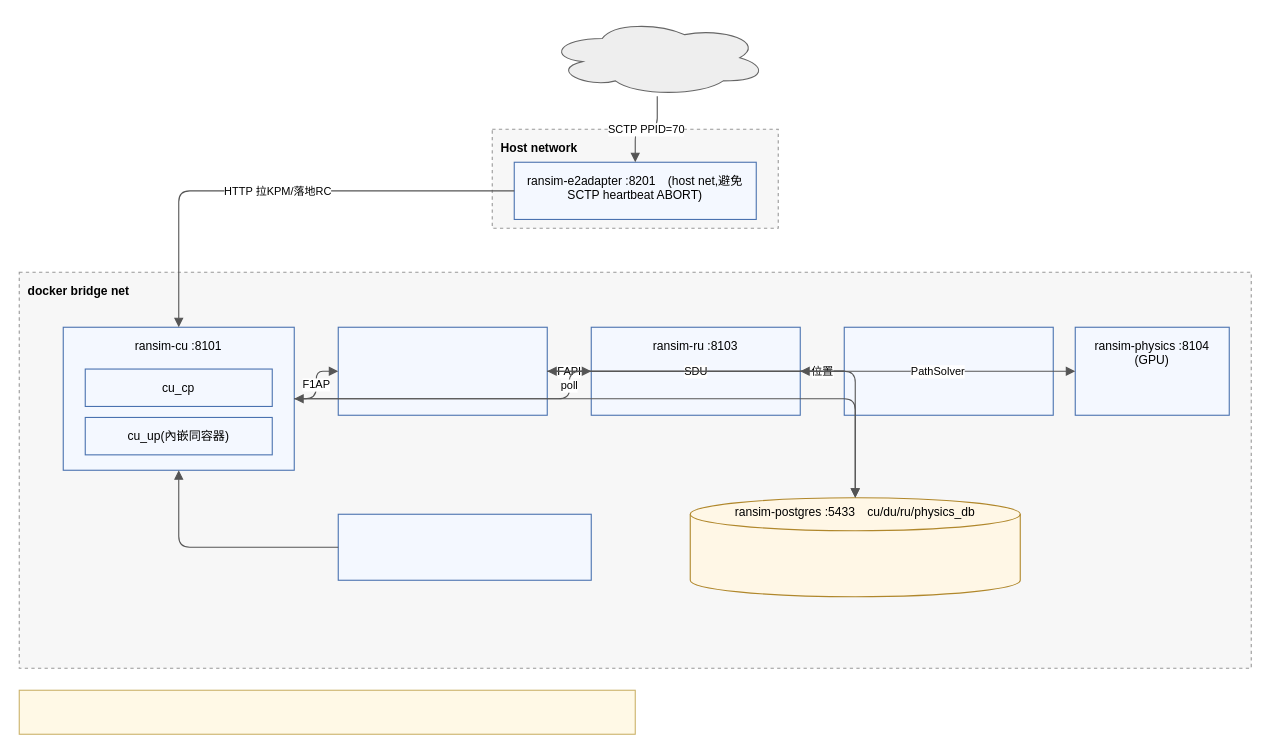
The diagram is 1271 pixels wide and 754 high, and some of its shapes have lost their labels. Here are the shapes that lost their labels. From the top down, the centre of each, then its label:
At (656,57): "外部 RIC 10.3.0.71:36422".
At (442,370): "ransim-du :8102 ★模擬真實來源★".
At (948,370): "ransim-ue :8105".
At (464,546): "ransim-dashboard :3010 (Next.js 前端)".
At (326,711): "註:Omniverse backend :8001 / Kit :8080 依規格「先不含」而省略".
